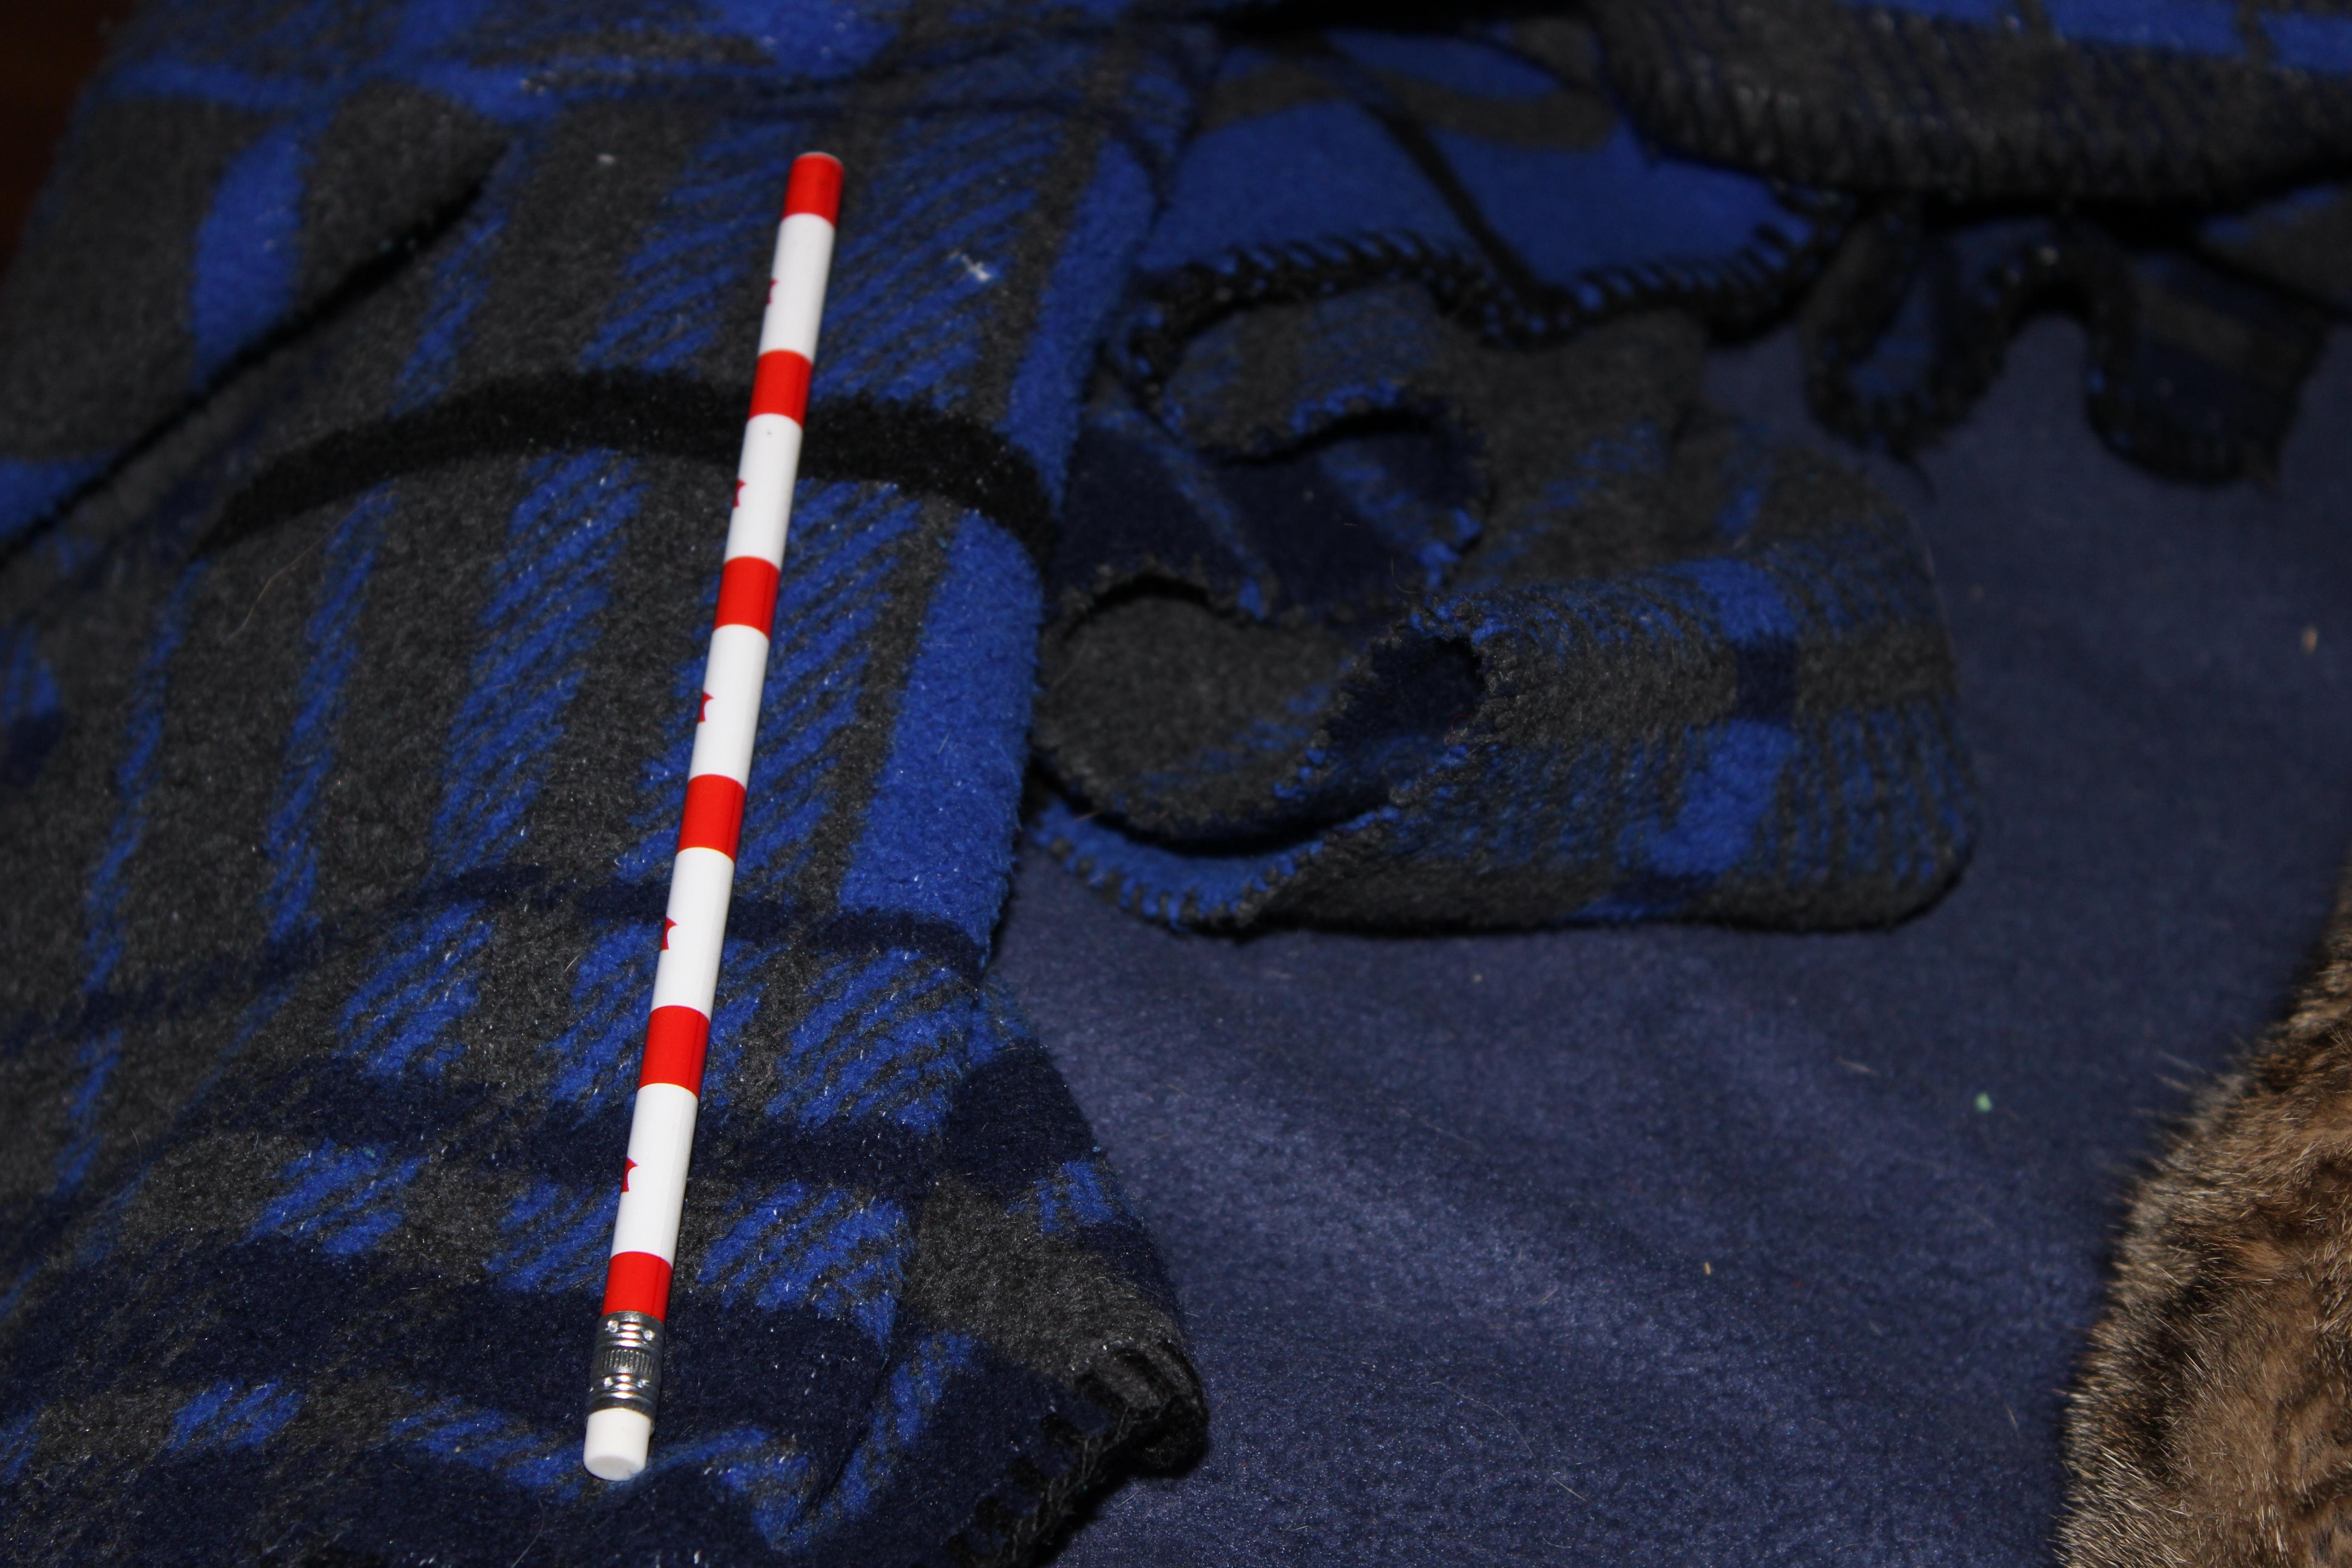canadaPencil: (551, 107, 870, 1503)
